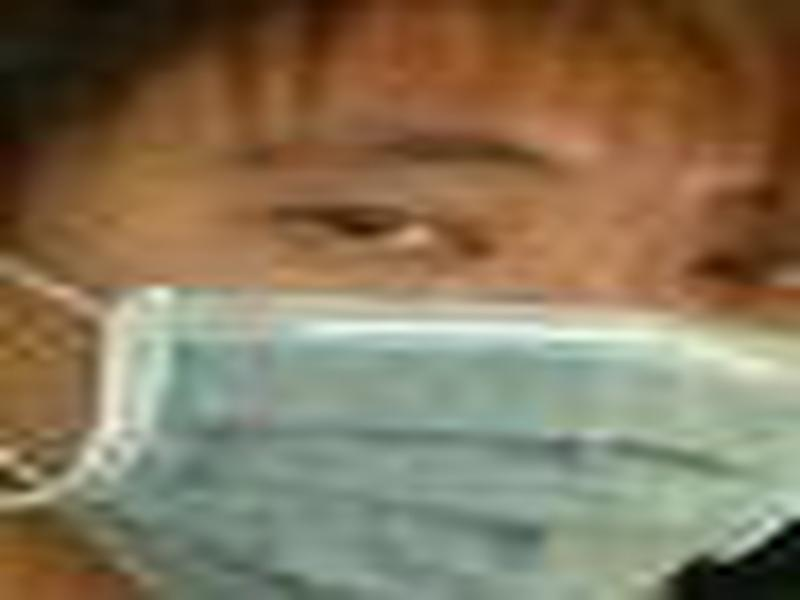with_mask: (2, 4, 800, 600)
